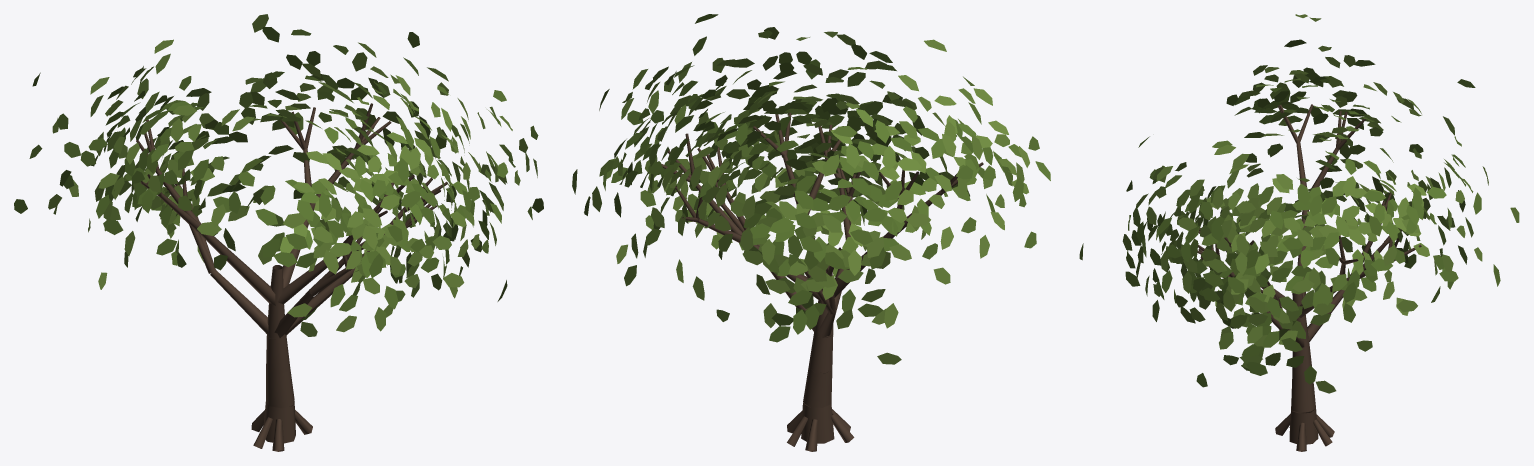
Rendered from apple_1.glb.
3 views of the same model, side by side, from view 1: azimuth 30°, elevation 25°; view 2: azimuth 150°, elevation 25°; view 3: azimuth 270°, elevation 25° (orthographic). The views are drawn at different scales.
Parts seen in each view (by area): view 1: apple_1_LOD0; view 2: apple_1_LOD0; view 3: apple_1_LOD0.
Boxes of the visible parts, box(x1,y1,x2,y2) form: apple_1_LOD0: box(14, 14, 543, 451); apple_1_LOD0: box(572, 14, 1050, 451); apple_1_LOD0: box(1079, 14, 1519, 451).
Size of what is drawn, in the model's own units: 1.76 by 1.51 by 1.59.
